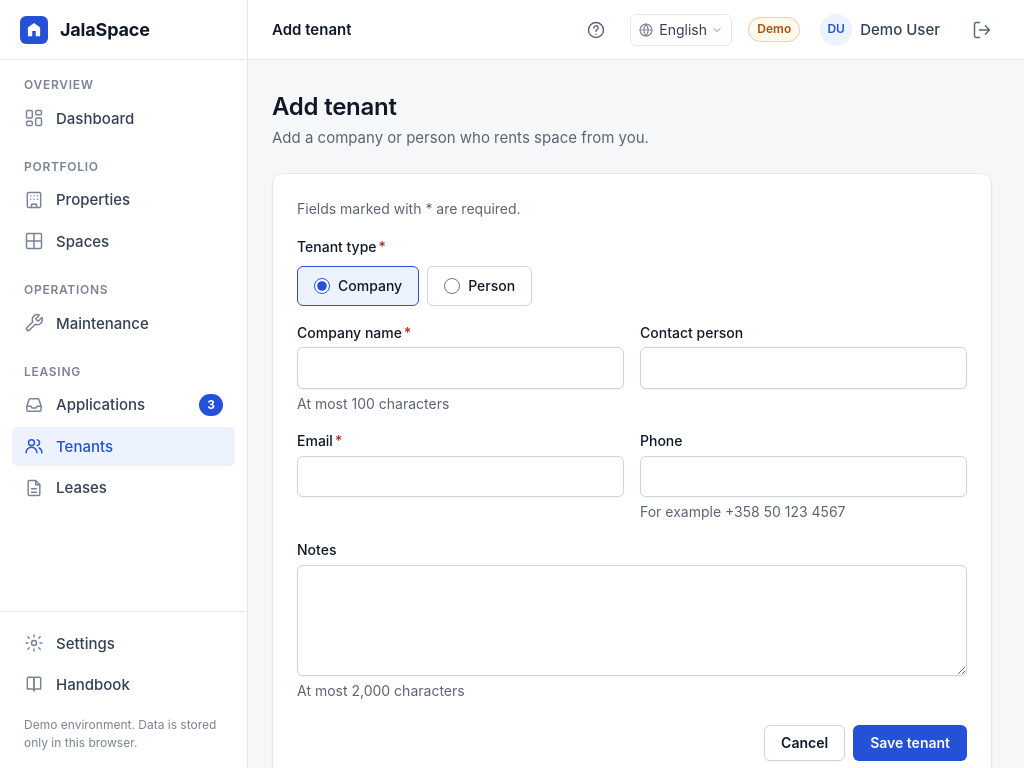
Test case: tenants › creates a tenant and shows its details
Type " Bakery Esimerkki Oy " into the field labelled "Company name*". click: (460, 368)
box: x1=297 y1=347 x2=624 y2=389
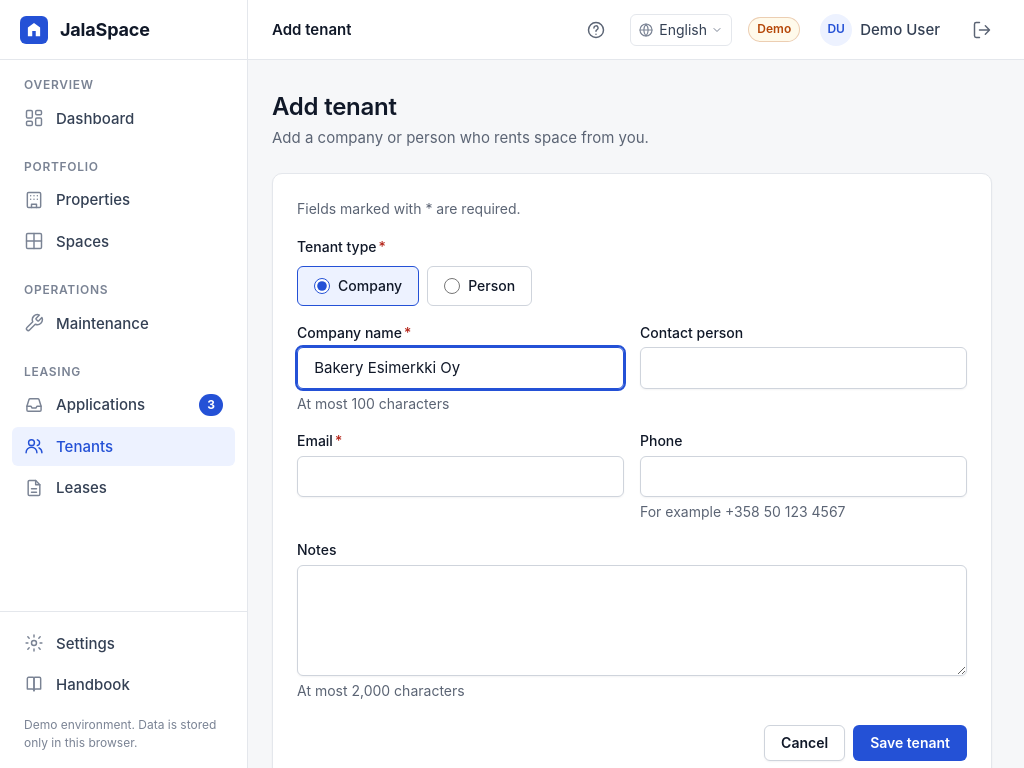
Type "Liisa Esimerkki" into the field labelled "Contact person". click: (804, 368)
box: x1=640 y1=347 x2=967 y2=389
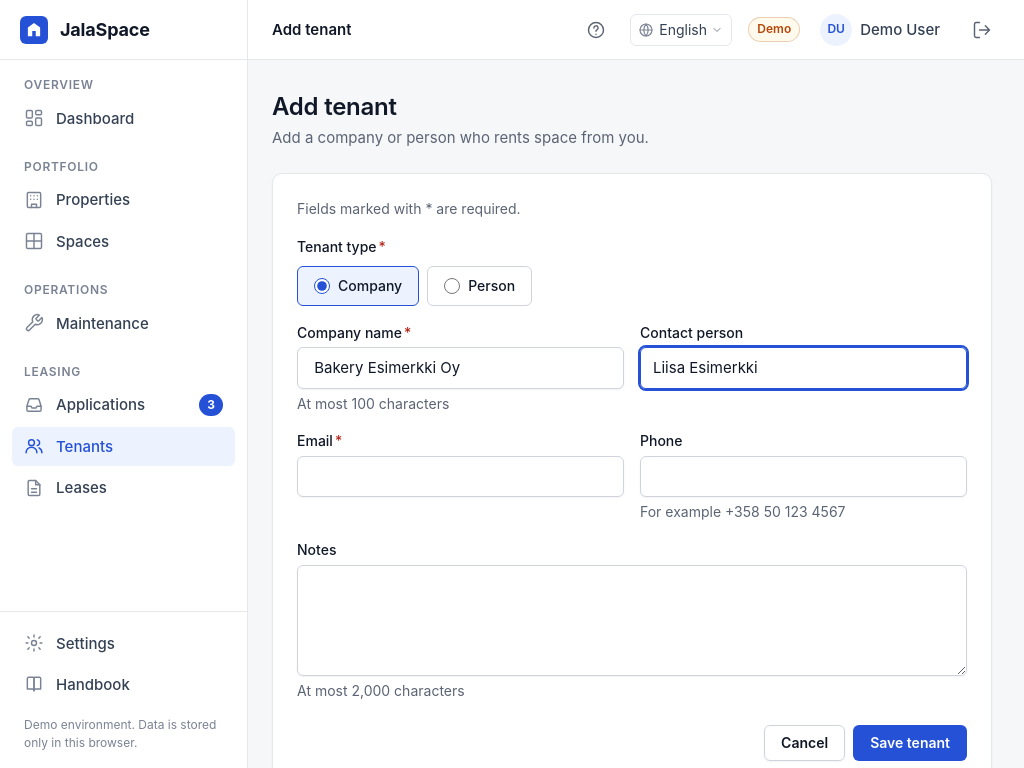
Type "hello@bakery-esimerkki.example" into the field labelled "Email*". click: (460, 477)
box: x1=297 y1=456 x2=624 y2=497
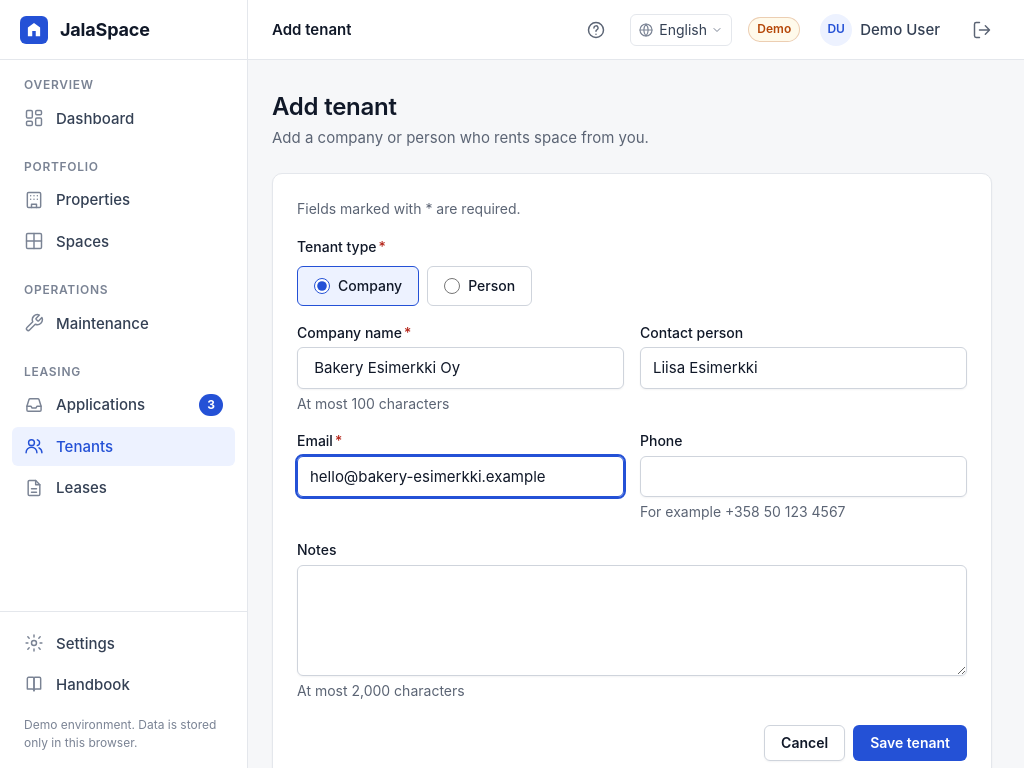
Click the button "Save tenant". click: click(910, 743)
box: x1=853 y1=725 x2=967 y2=761
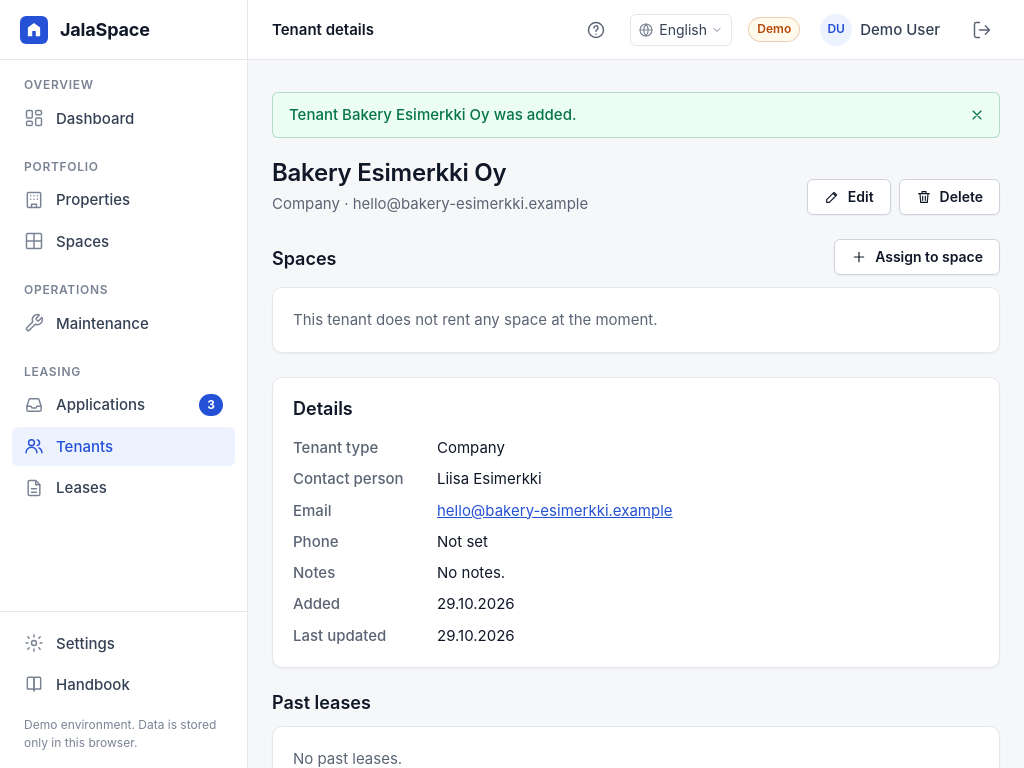
Expected: the text "Tenant Bakery Esimerkki Oy was added." is shown, x1=289 y1=103 x2=576 y2=127
Expected: the heading "Bakery Esimerkki Oy" is shown, x1=272 y1=158 x2=506 y2=187
Expected: the text "This tenant does not rent any space at the moment." is shown, x1=272 y1=287 x2=1000 y2=353
